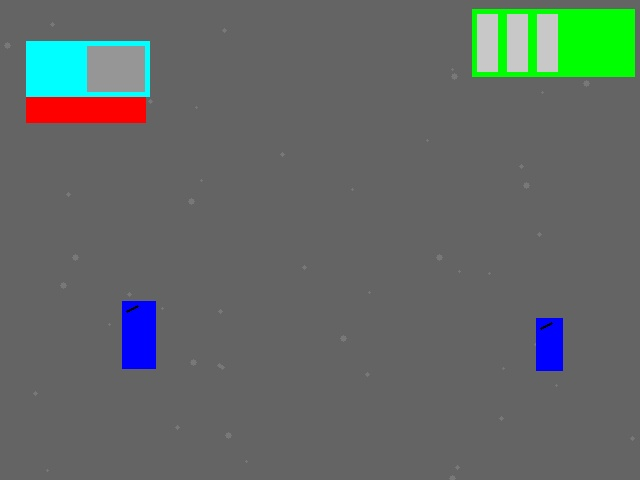bus: (472, 9, 634, 76)
car: (26, 63, 145, 122)
motorcycle: (122, 301, 155, 368), (536, 318, 562, 370)
truck: (26, 41, 149, 96)
